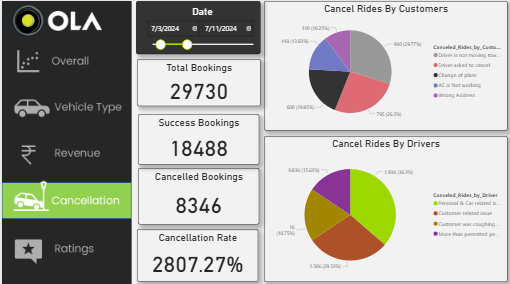

Layout of this report page (visuals, bound fields, positions):
{"tool":"powerbi","page":{"name":"Cancellation","canvas":[1280,720],"ordinal":3},"visuals":[{"type":"actionButton","box":[0,110,322.9,111.4],"z":0},{"type":"actionButton","box":[0,221.4,314.3,125.7],"z":1000},{"type":"actionButton","box":[0,337.1,322.9,121.4],"z":2000},{"type":"actionButton","box":[0,547.1,322.9,172.9],"z":3000},{"type":"pieChart","title":"Cancel Rides By Customers","fields":{"Category":["July.Canceled_Rides_by_Customer"],"Y":["CountNonNull(July.Canceled_Rides_by_Customer)"]},"box":[656.1,0,609.1,324.2],"z":4000},{"type":"pieChart","title":"Cancel Rides By Drivers","fields":{"Category":["July.Canceled_Rides_by_Driver"],"Y":["CountNonNull(July.Canceled_Rides_by_Driver)"]},"box":[656.1,337.9,609.1,365.2],"z":5000},{"type":"slicer","title":"Date","fields":{"Values":["July.Date"]},"box":[334.8,0,310.6,133.3],"z":6000},{"type":"card","title":"Total Bookings","fields":{"Values":["CountNonNull(July.Booking_ID)"]},"box":[336.4,145.5,309.1,118.2],"z":7000},{"type":"card","title":"Success Bookings","fields":{"Values":["CountNonNull(July.Booking_ID)"]},"box":[339.4,283.3,303,127.3],"z":8000},{"type":"card","title":"Cancelled Bookings","fields":{"Values":["CountNonNull(July.Booking_ID)"]},"box":[339.4,418.2,303,140.9],"z":9000},{"type":"card","title":"Cancellation Rate","fields":{"Values":["July.CanceledPercentage"]},"box":[336.4,571.2,303,131.8],"z":10000}]}

Visuals, with their boxes on the page's 1280x720 design canvas (x1, y1, x2, y2). These are canvas units, not pixel positions in the 510x284 screenshot, which may show the page scaled, cropped or inside an application window:
actionButton: <box>0,110,323,221</box>
actionButton: <box>0,221,314,347</box>
actionButton: <box>0,337,323,458</box>
actionButton: <box>0,547,323,720</box>
"Cancel Rides By Customers" pieChart: <box>656,0,1265,324</box>
"Cancel Rides By Drivers" pieChart: <box>656,338,1265,703</box>
"Date" slicer: <box>335,0,645,133</box>
"Total Bookings" card: <box>336,146,646,264</box>
"Success Bookings" card: <box>339,283,642,411</box>
"Cancelled Bookings" card: <box>339,418,642,559</box>
"Cancellation Rate" card: <box>336,571,639,703</box>
